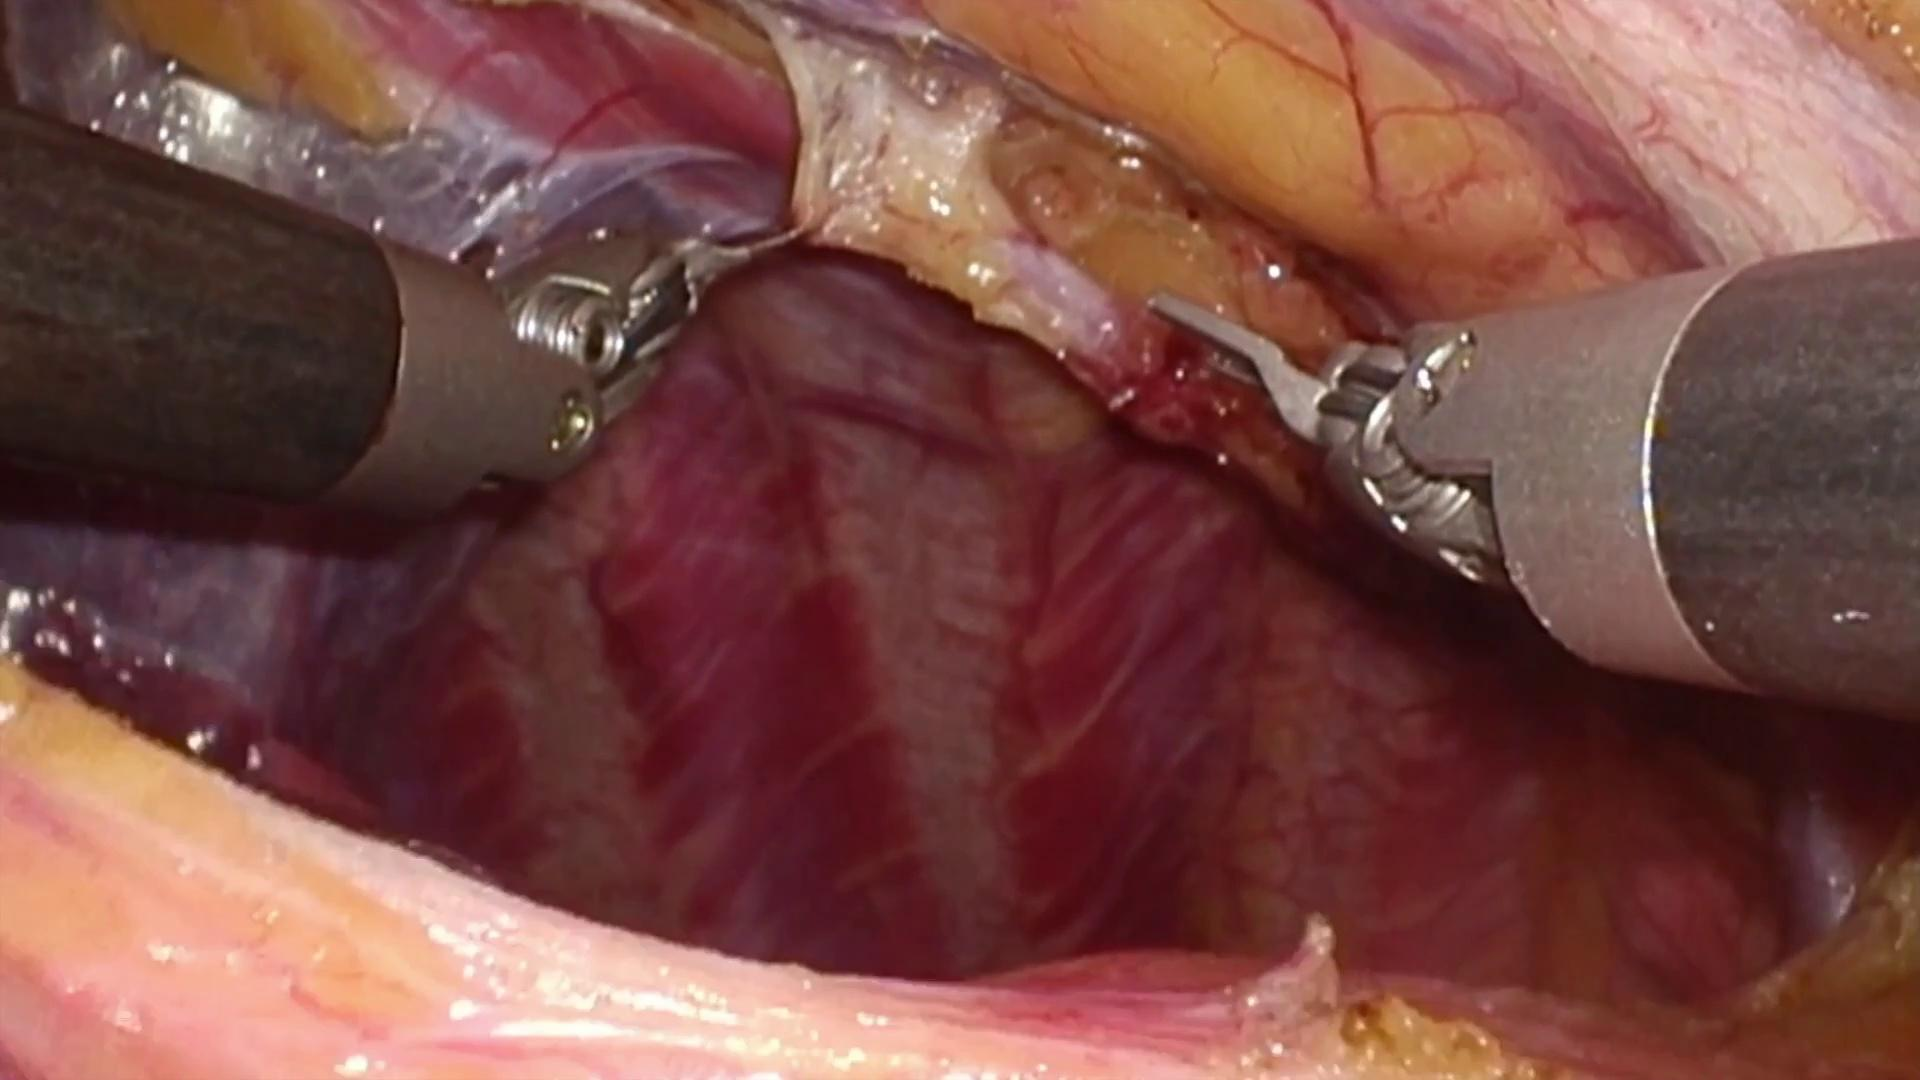Debakey: (638, 211, 829, 336)
clipper: (1153, 289, 1501, 589)
